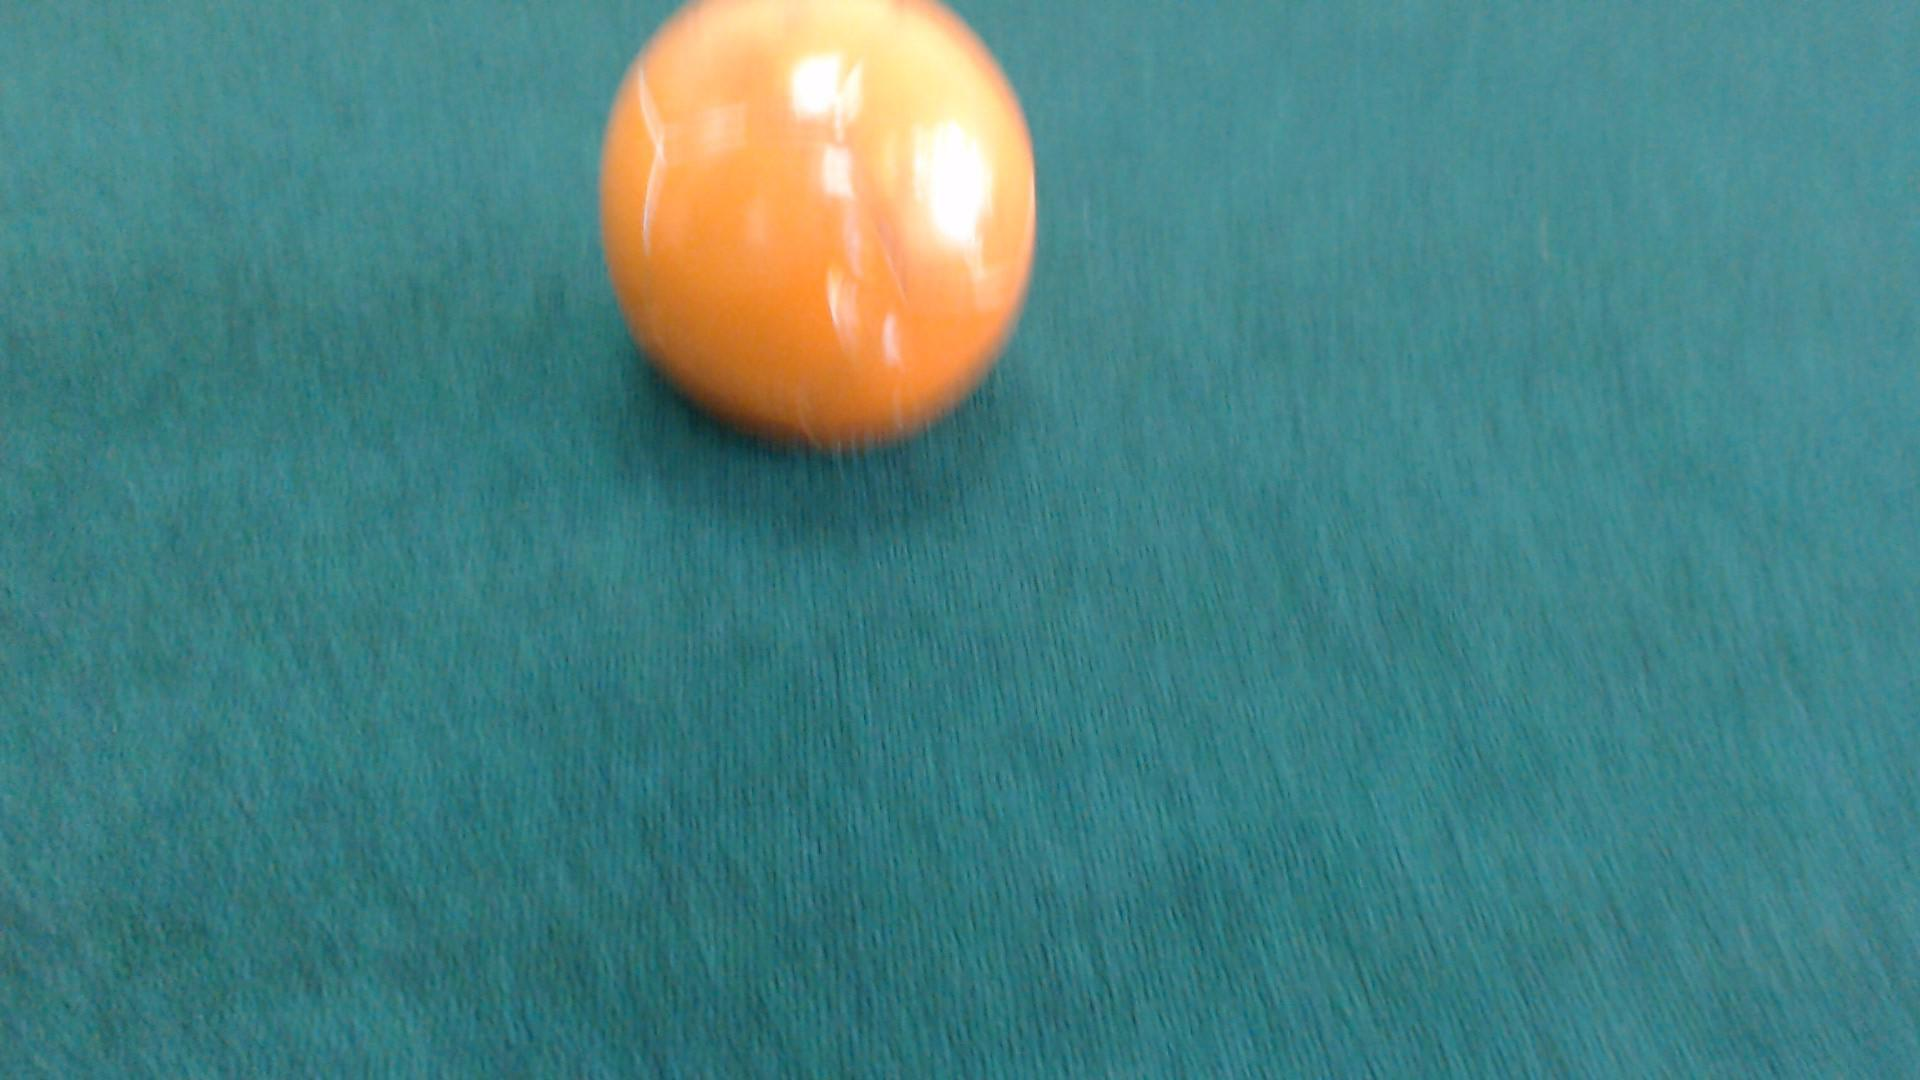bola: (568, 0, 1096, 483)
